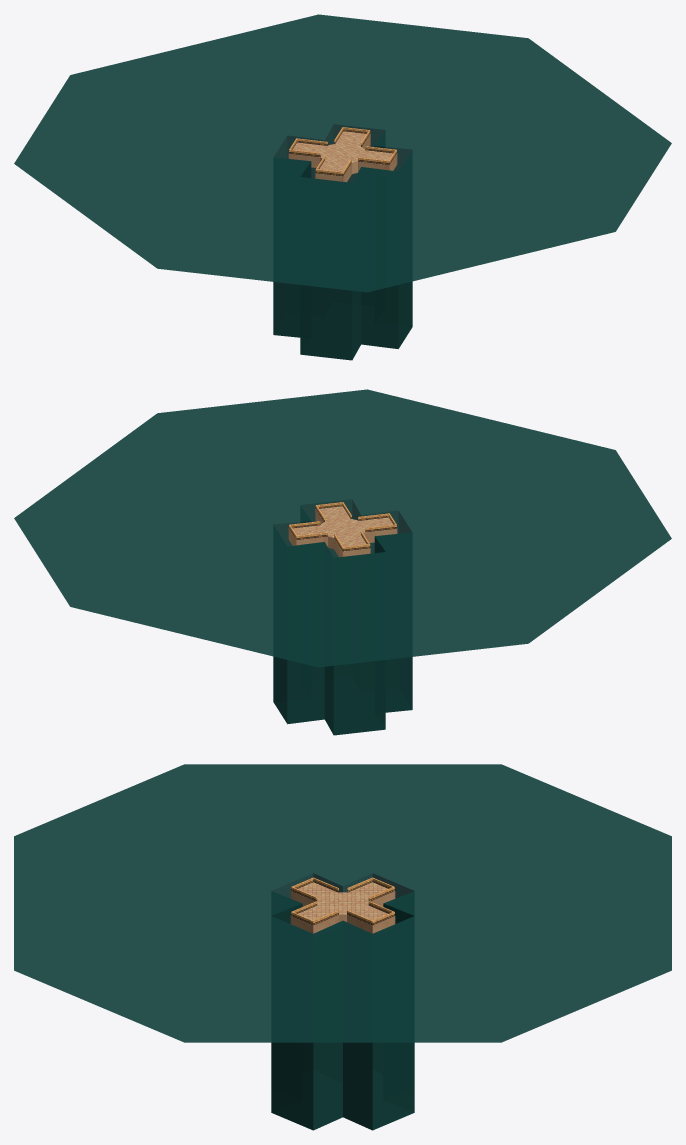
The model's file is Battle_Stage 11.fbx.
The picture shows the model from 3 angles, top to bottom: view 1: azimuth 30°, elevation 25°; view 2: azimuth 150°, elevation 25°; view 3: azimuth 270°, elevation 25°; orthographic projection. The views are drawn at different scales.
Parts seen in each view (by area): view 1: CR_Platform_Cube.032, CR_Platform_Cube.029, CR_Platform_Cube.031; view 2: CR_Platform_Cube.032, CR_Platform_Cube.029, CR_Platform_Cube.031; view 3: CR_Platform_Cube.032, CR_Platform_Cube.029, CR_Platform_Cube.031.
Boxes of the visible parts, x1,y1,x2,y2 form: CR_Platform_Cube.032: [14, 14, 671, 360]; CR_Platform_Cube.029: [288, 131, 397, 182]; CR_Platform_Cube.031: [289, 127, 396, 176]; CR_Platform_Cube.032: [14, 389, 671, 735]; CR_Platform_Cube.029: [288, 506, 397, 557]; CR_Platform_Cube.031: [289, 502, 396, 551]; CR_Platform_Cube.032: [14, 764, 671, 1130]; CR_Platform_Cube.029: [290, 882, 395, 933]; CR_Platform_Cube.031: [291, 877, 394, 925].
Size of the model in its own units: 47871 by 16113 by 47871.
